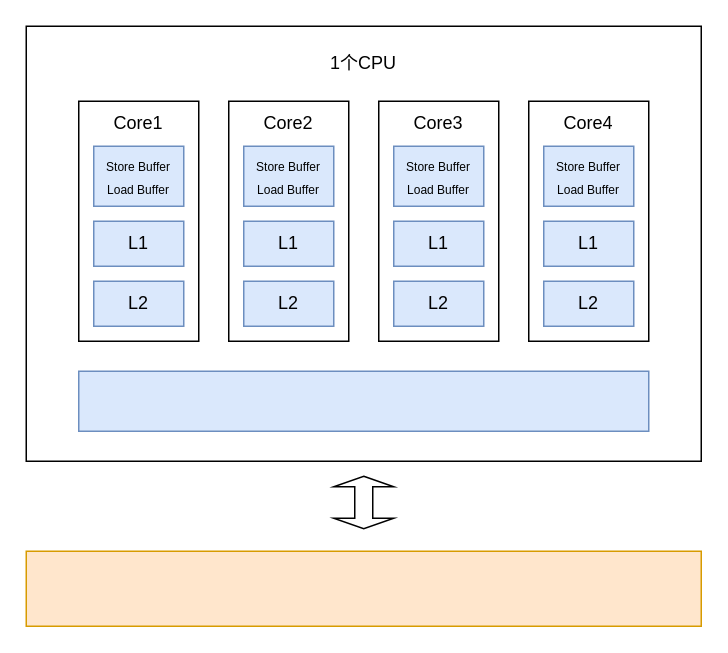
Image size: 728x653. Some labels were removed from this diagram. Here are the shapes that lost their labels. From the top down, the box of each, then its label:
(77, 370, 649, 431): L3
(25, 550, 701, 626): 主内存
